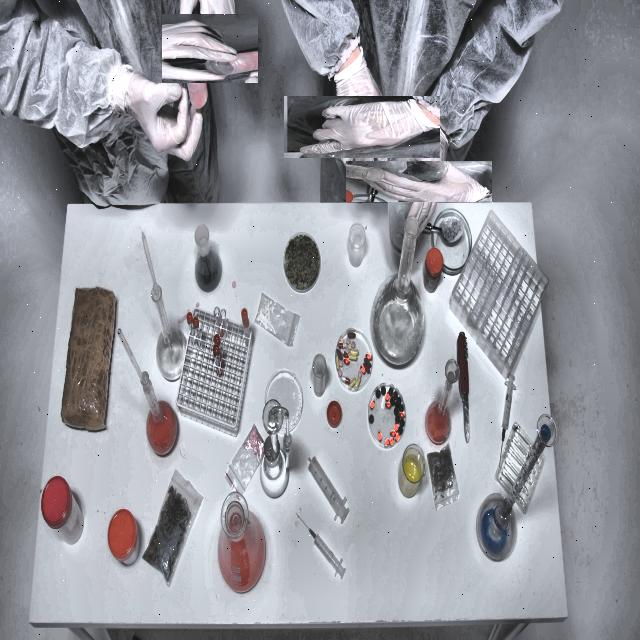gloved: (307, 73, 417, 182), (114, 58, 211, 174), (372, 134, 466, 228), (168, 6, 252, 90)
